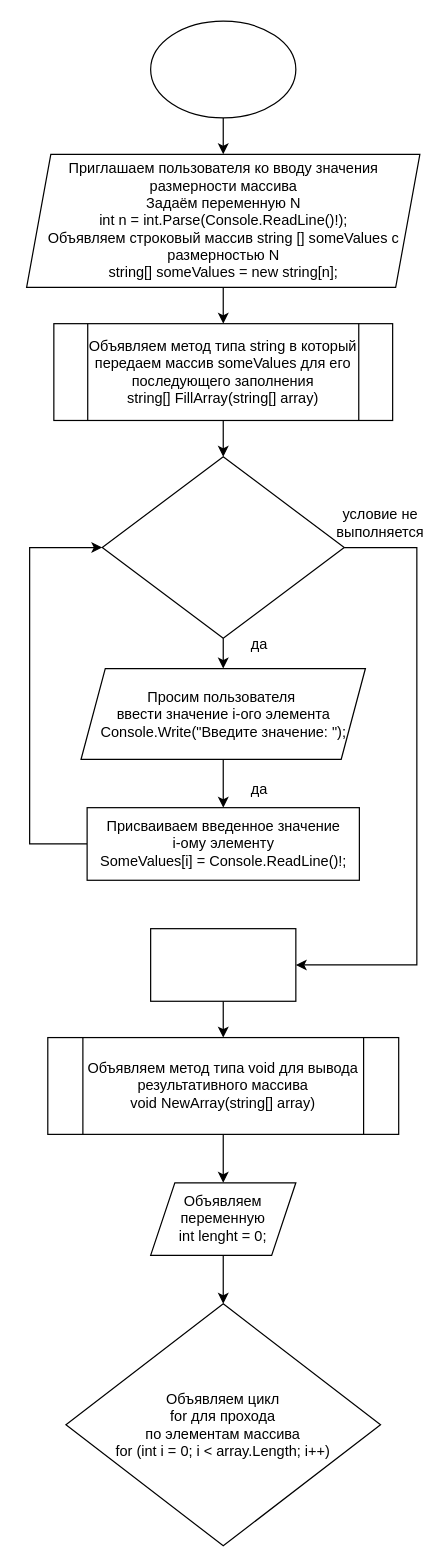
The diagram is 448 pixels wide and 1567 high, and some of its shapes have lost their labels. Each missing label, with the centre of its shape:
"Start" goes at (222,69).
"Возвращаем заполненный массив return SomeValues;" goes at (222,964).
"Объявляем цикл for для прохода по элементам массива for (int i = 0; i < n; i++)" goes at (222,547).
